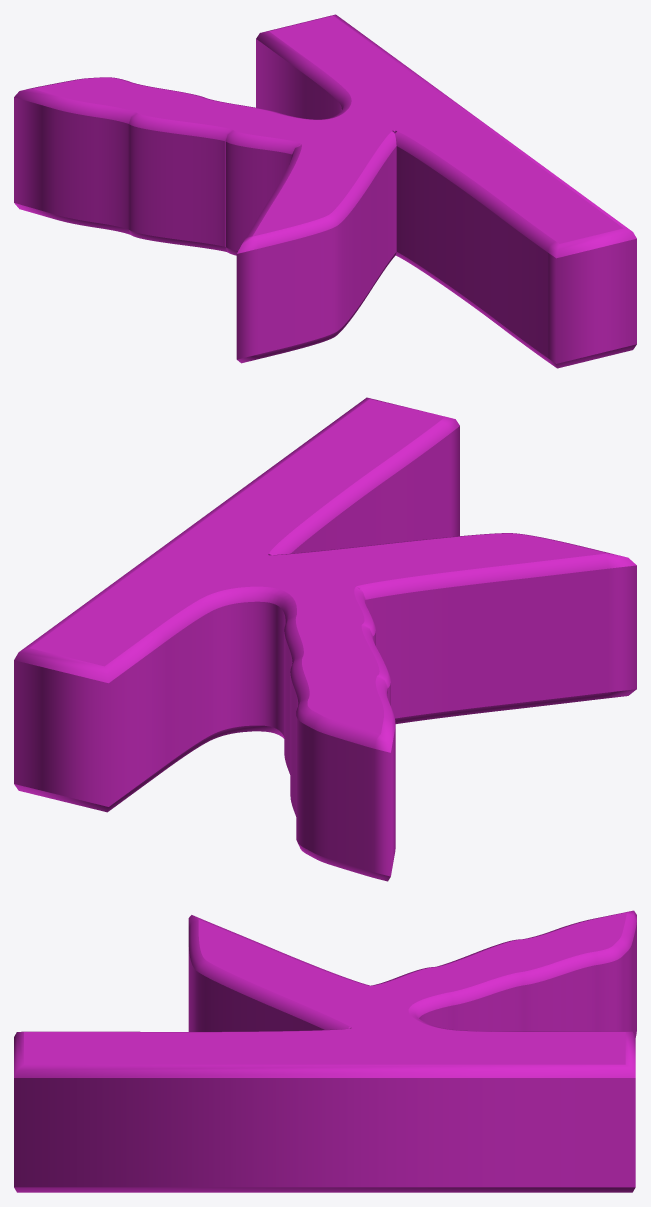
Rendered from Blocky_Letter_k.fbx.
The picture shows the model from 3 angles, top to bottom: view 1: azimuth 30°, elevation 25°; view 2: azimuth 150°, elevation 25°; view 3: azimuth 270°, elevation 25°; orthographic projection. The views are drawn at different scales.
Parts seen in each view (by area): view 1: BlockyLetter_k; view 2: BlockyLetter_k; view 3: BlockyLetter_k.
Part boxes in pixels (<box>): BlockyLetter_k: <box>14,14,636,368</box>; BlockyLetter_k: <box>14,397,636,881</box>; BlockyLetter_k: <box>14,910,636,1192</box>.
Size of the model in its own units: 0.3832 by 0.14 by 0.6193.
